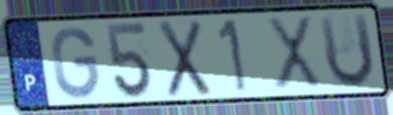1: (216, 17, 249, 95)
5: (103, 20, 154, 101)
G: (49, 25, 101, 101)
U: (316, 10, 377, 91)
X: (265, 14, 325, 92), (156, 18, 213, 100)
